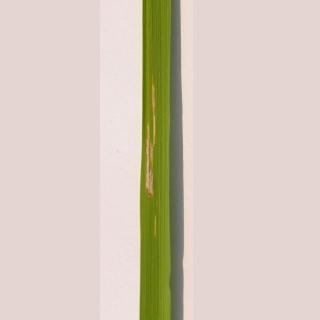Hawar-Daun: (138, 85, 162, 220)
